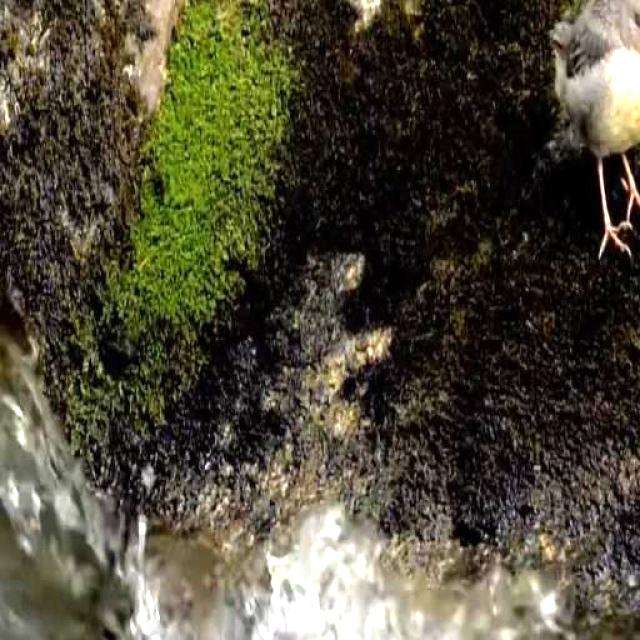airplane: (550, 0, 640, 260)
